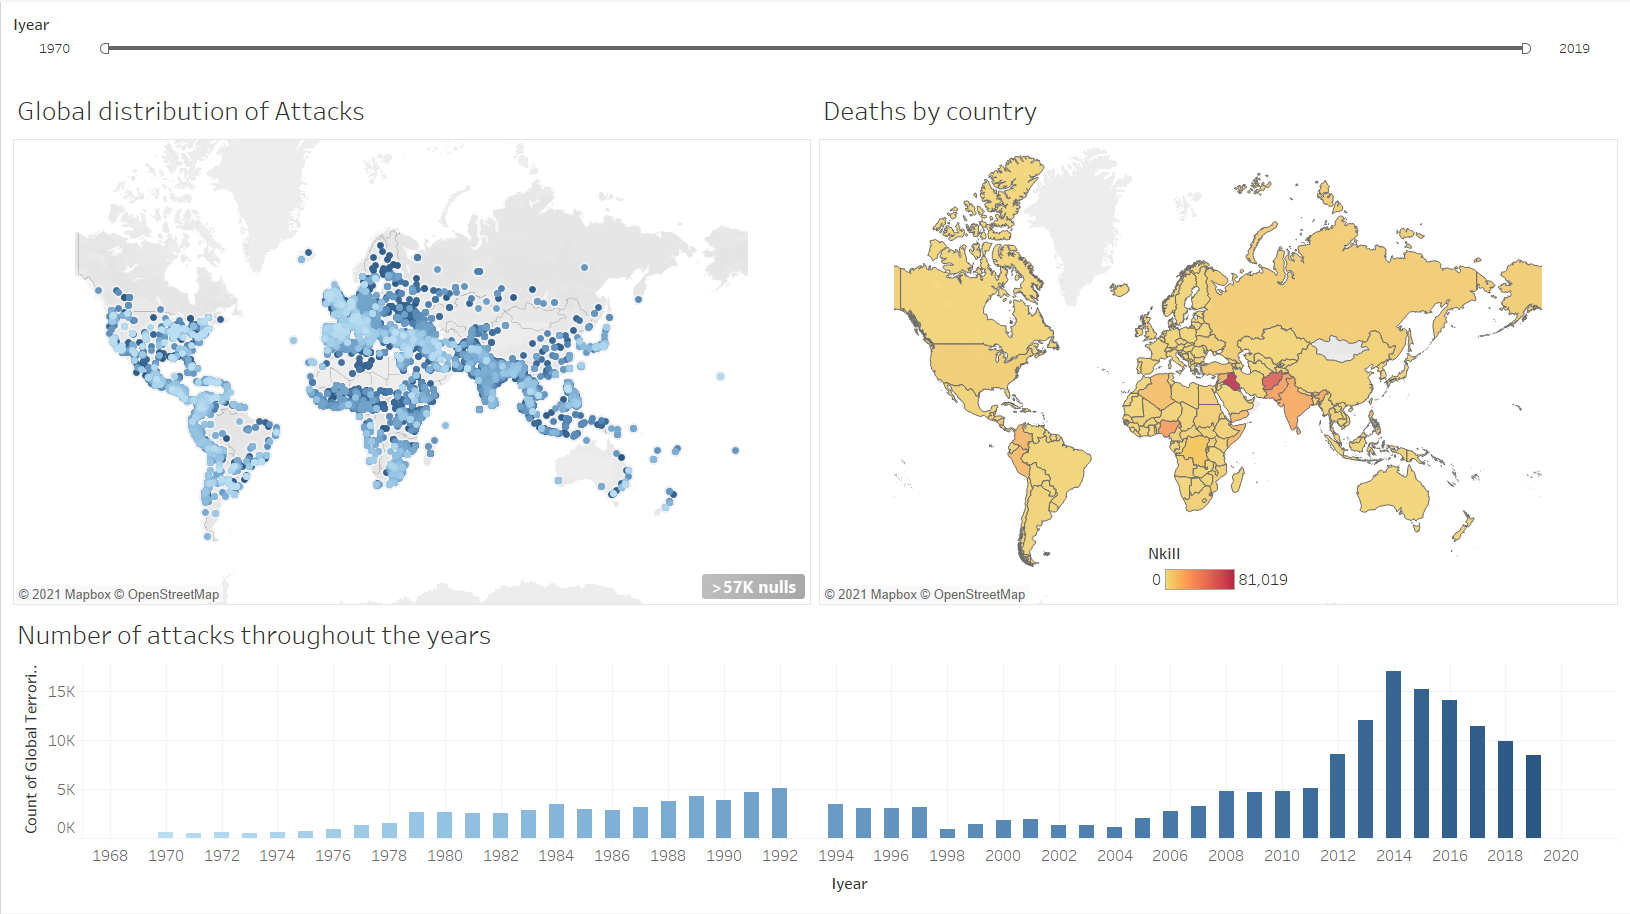

What the dashboard file says about the page in this screenshot:
{"tool":"tableau","page":{"name":"Overview","canvas":[1000,1000],"units":"permille","ordinal":1},"visuals":[{"type":"worksheet","box":[0,0,1000,1000]},{"type":"worksheet","param":"horz","box":[5.1,8.8,989.9,82.3]},{"type":"worksheet","title":"Global distribution of Attacks","mark":"Circle","param":"[federated.0vspcdp0v9njc21co1hia1xtu0lf].[none:iyear:qk]","box":[5.1,8.8,989.9,82.3]},{"type":"worksheet","param":"horz","box":[5.1,91.1,989.9,900.1]},{"type":"worksheet","box":[5.1,91.1,989.9,900.1]},{"type":"worksheet","param":"horz","box":[5.1,91.1,989.9,575.2]},{"type":"worksheet","box":[5.1,91.1,989.9,575.2]},{"type":"worksheet","title":"Global distribution of Attacks","mark":"Circle","box":[5.1,91.1,494.6,575.2]},{"type":"worksheet","title":"Deaths by country","mark":"Multipolygon","box":[499.7,91.1,495.2,575.2]},{"type":"worksheet","title":"Deaths by country","mark":"Multipolygon","param":"[federated.0vspcdp0v9njc21co1hia1xtu0lf].[sum:nkill:qk]","box":[704.2,593.9,89.3,77.9]},{"type":"worksheet","title":"Number of attacks throughout the years","mark":"Bar","rows":["Data_5FF5386430B041CA866FE02013DAEE75"],"cols":["iyear"],"box":[5.1,666.3,989.9,324.9]}]}

Visuals, with their boxes on the dashboard's canvas, which has no fixed pixel size, in thousandths of its width and height (x1, y1, x2, y2). These are canvas units, not pixel positions in the 1630x914 screenshot, which may show the page scaled, cropped or inside an application window:
worksheet: {"left": 0, "top": 0, "right": 1000, "bottom": 1000}
worksheet: {"left": 5, "top": 9, "right": 995, "bottom": 91}
"Global distribution of Attacks" worksheet (Circle marks): {"left": 5, "top": 9, "right": 995, "bottom": 91}
worksheet: {"left": 5, "top": 91, "right": 995, "bottom": 991}
worksheet: {"left": 5, "top": 91, "right": 995, "bottom": 991}
worksheet: {"left": 5, "top": 91, "right": 995, "bottom": 666}
worksheet: {"left": 5, "top": 91, "right": 995, "bottom": 666}
"Global distribution of Attacks" worksheet (Circle marks): {"left": 5, "top": 91, "right": 500, "bottom": 666}
"Deaths by country" worksheet (Multipolygon marks): {"left": 500, "top": 91, "right": 995, "bottom": 666}
"Deaths by country" worksheet (Multipolygon marks): {"left": 704, "top": 594, "right": 794, "bottom": 672}
"Number of attacks throughout the years" worksheet (Bar marks): {"left": 5, "top": 666, "right": 995, "bottom": 991}
